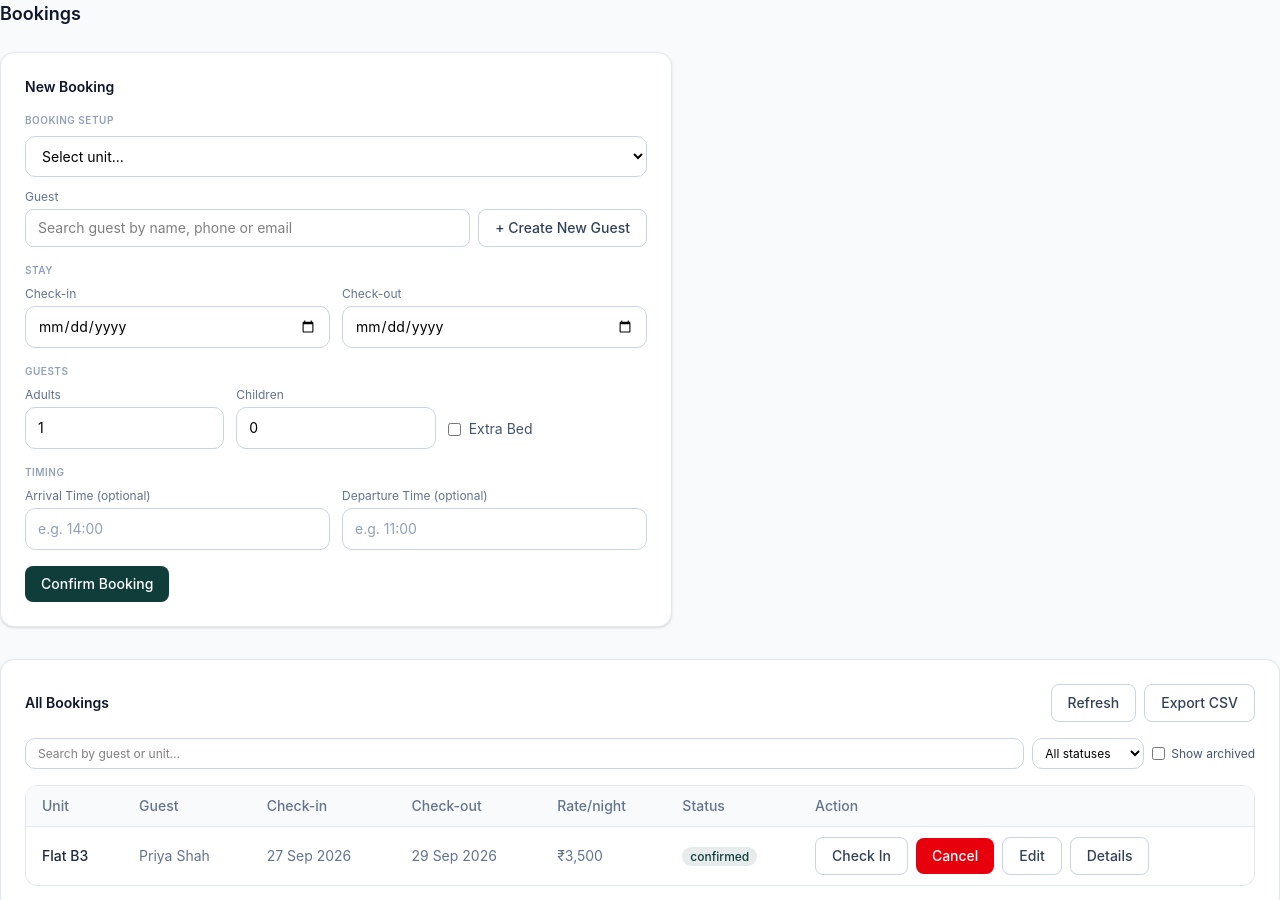
Test: BookingsPage — UI polish › Additional Guests (Identity Verification feature) › shows the Principal Guest's identity status next to the Guest picker
Expected: the text "Priya Shah" is shown, [123, 826, 251, 885]
Click the button "Edit". click: (1032, 856)
box: [1002, 837, 1062, 875]
(page scrolled)
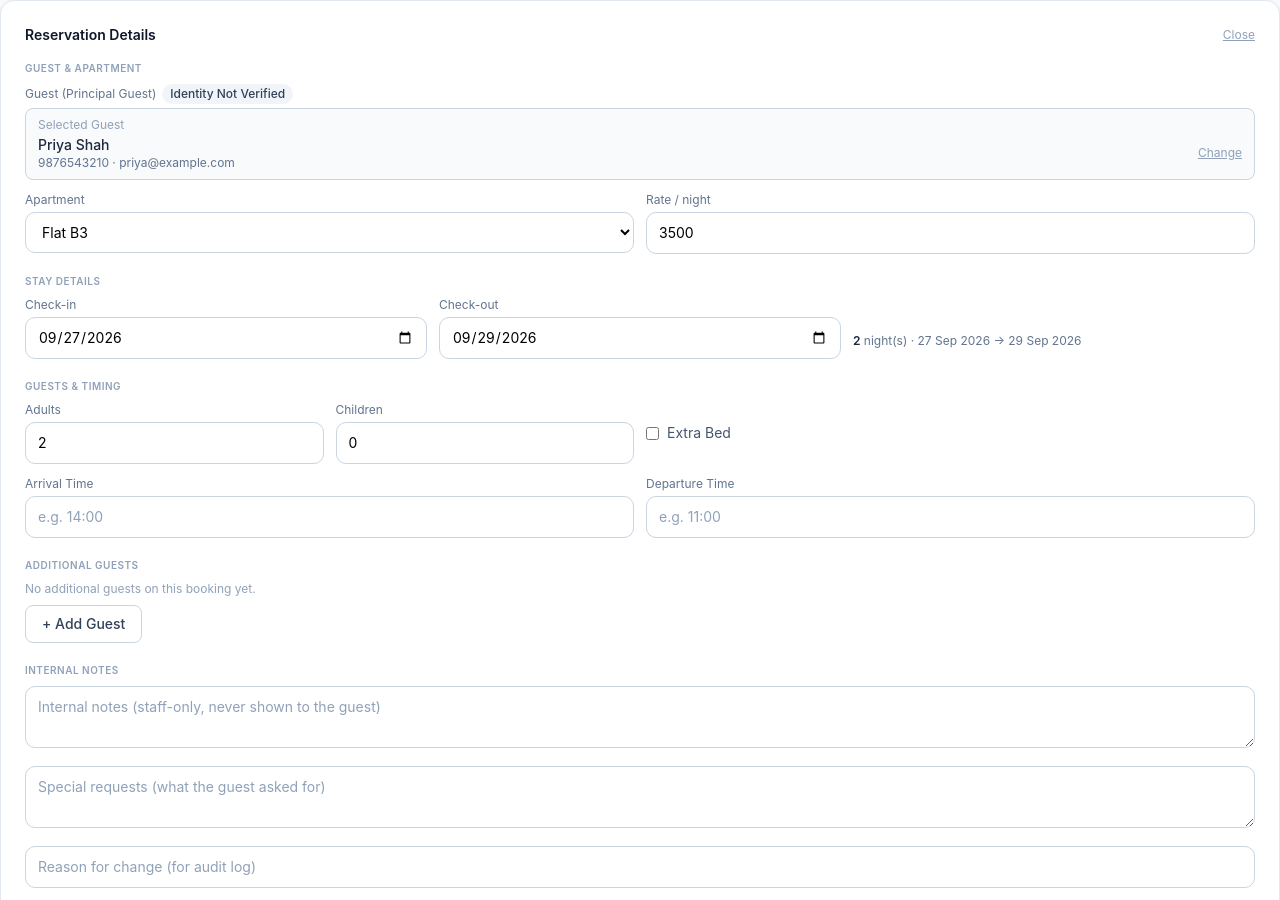
Expected: the heading "Additional Guests" is shown, [25, 559, 138, 571]
Expected: the text "Identity Not Verified" is shown, [162, 84, 293, 104]
